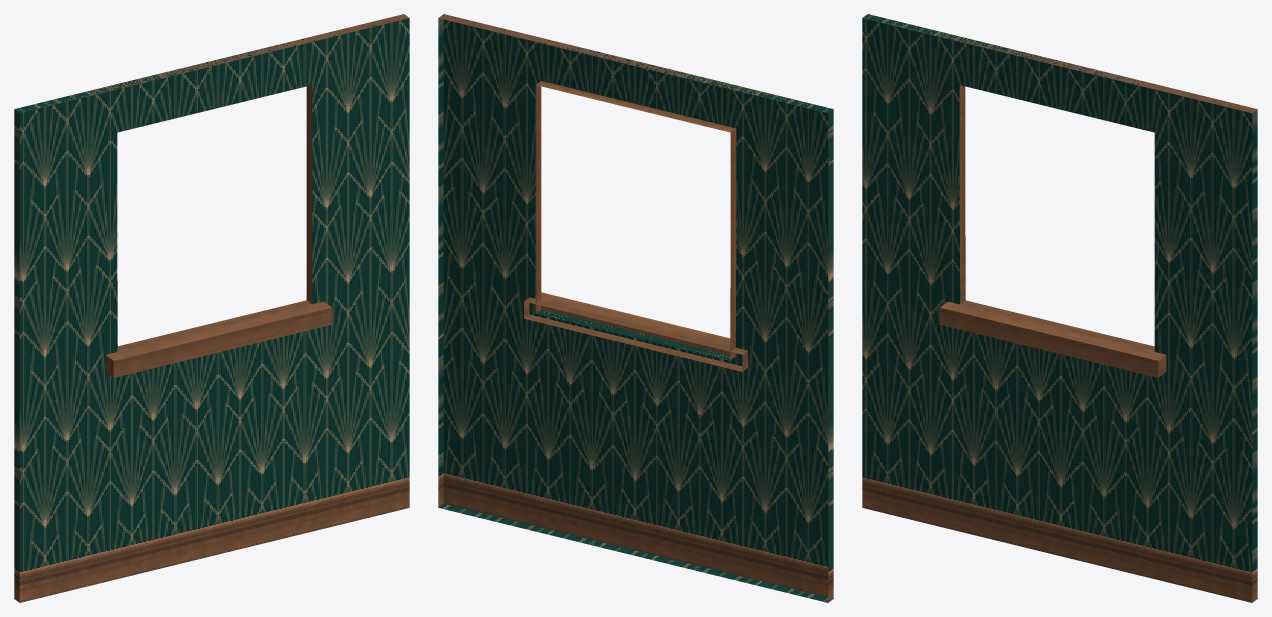
Rendered from window_wall5.glb.
3 renders of one model, left to right at view 1: azimuth 30°, elevation 25°; view 2: azimuth 150°, elevation 25°; view 3: azimuth 330°, elevation 25°, orthographic.
Parts seen in each view (by area): view 1: window_wall5; view 2: window_wall5; view 3: window_wall5.
Part boxes in pixels (<box>): window_wall5: <box>14,14,409,602</box>; window_wall5: <box>438,14,833,602</box>; window_wall5: <box>862,14,1257,602</box>.
Size of the model in its own units: 2 by 2.4 by 0.1226.
Materials: 1 (1 with a texture image).
